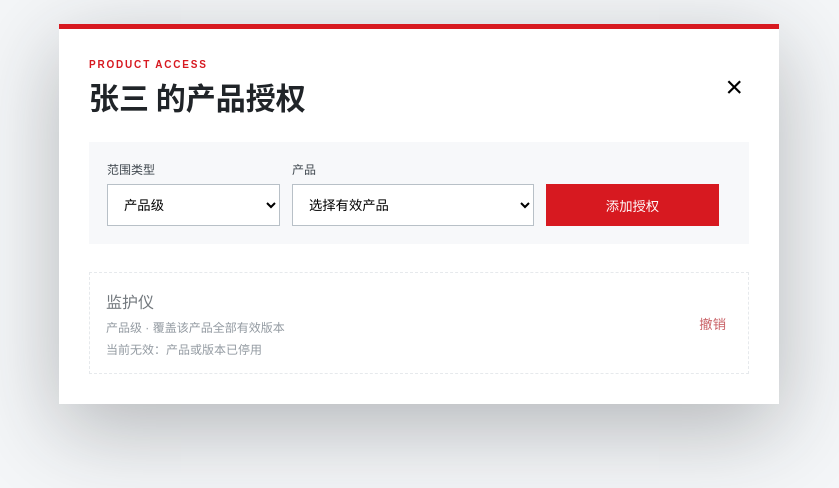
Scenario: ProductScopeEditor › marks ineffective scopes and revokes them idempotently
The width and height of the screenshot is (839, 488).
Click the button with aria-label "撤销监护仪授权" at {"x": 713, "y": 323}, box left=693, top=312, right=732, bottom=334
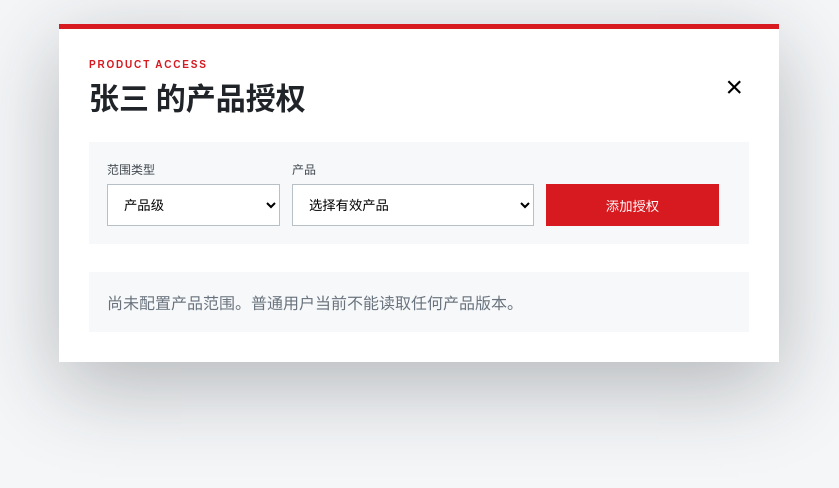
expect the text "尚未配置产品范围。普通用户当前不能读取任何产品版本。" is shown: met, box left=89, top=272, right=749, bottom=332
